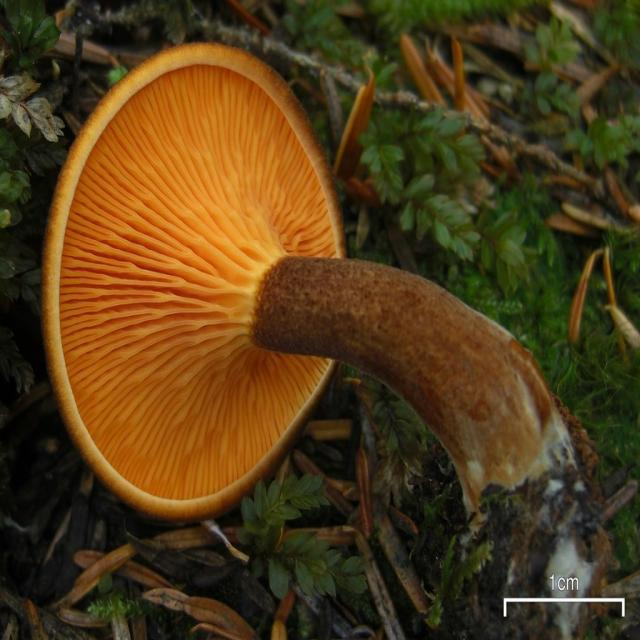mushroom: (42, 42, 612, 639)
